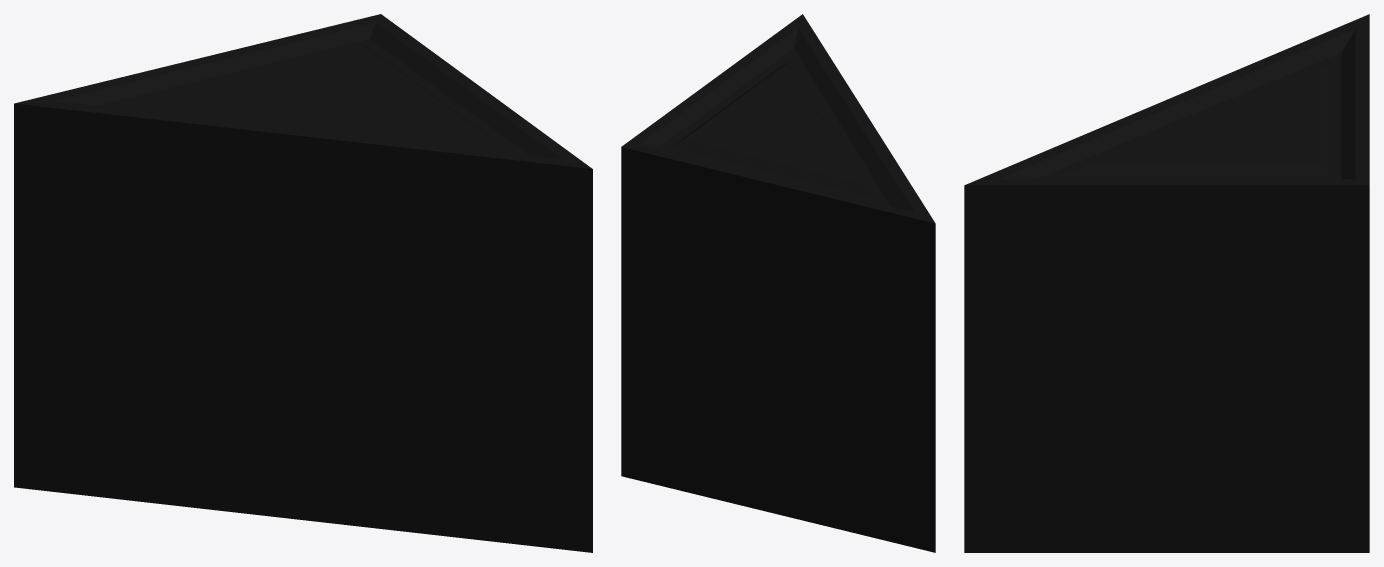
The model's file is Tile 2S.fbx.
The picture shows the model from 3 angles, left to right: view 1: azimuth 30°, elevation 25°; view 2: azimuth 150°, elevation 25°; view 3: azimuth 270°, elevation 25°; orthographic projection. The views are drawn at different scales.
Parts seen in each view (by area): view 1: pCube189; view 2: pCube189; view 3: pCube189.
Part boxes in pixels (left/top/right/bottom): pCube189: left=14, top=14, right=592, bottom=552; pCube189: left=621, top=14, right=935, bottom=552; pCube189: left=964, top=14, right=1369, bottom=552.
Bounding box in the file's own units: 1 × 1 × 1.
